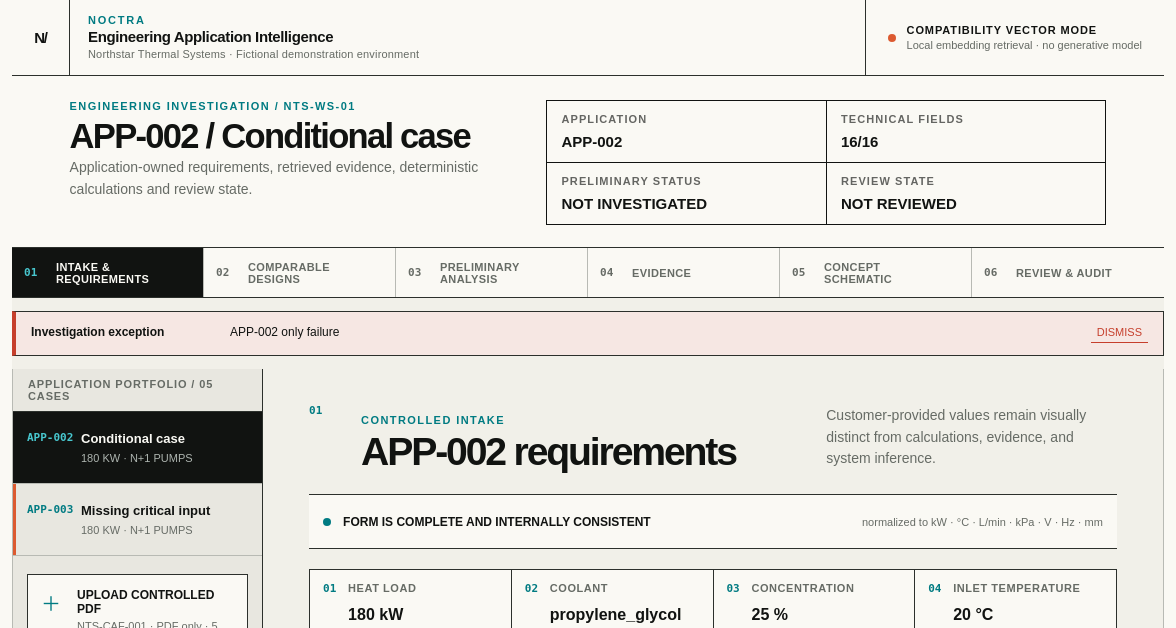
Test: workspace › does not leak an investigation exception banner across selections
The image size is (1176, 628).
Check: the text "APP-002 only failure" is shown, box [230,325,339,339]
Click the button "APP-003 Missing critical input 180 kW · n+1 pumps": (138, 520) [13,484,262,556]
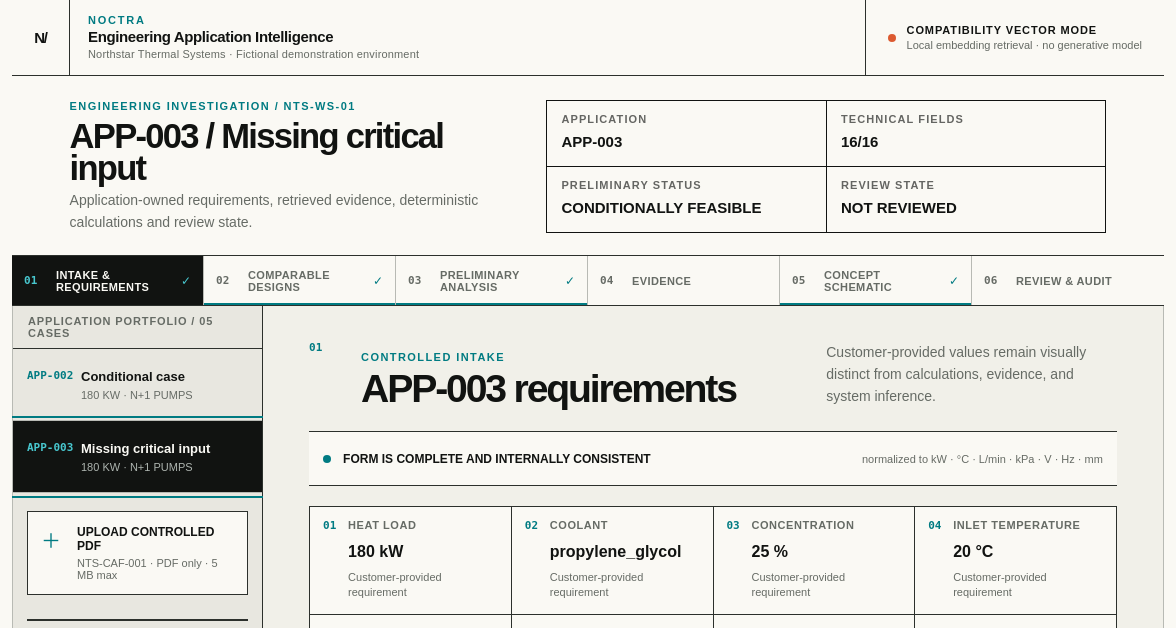
Check: the text "APP-002 only failure" is gone
Check: the text "Investigation exception" is gone
